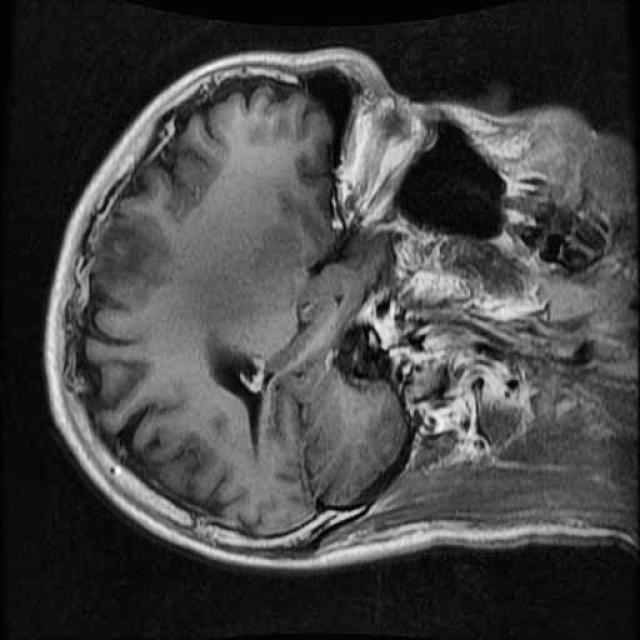Tumor: (80, 189, 192, 321)
